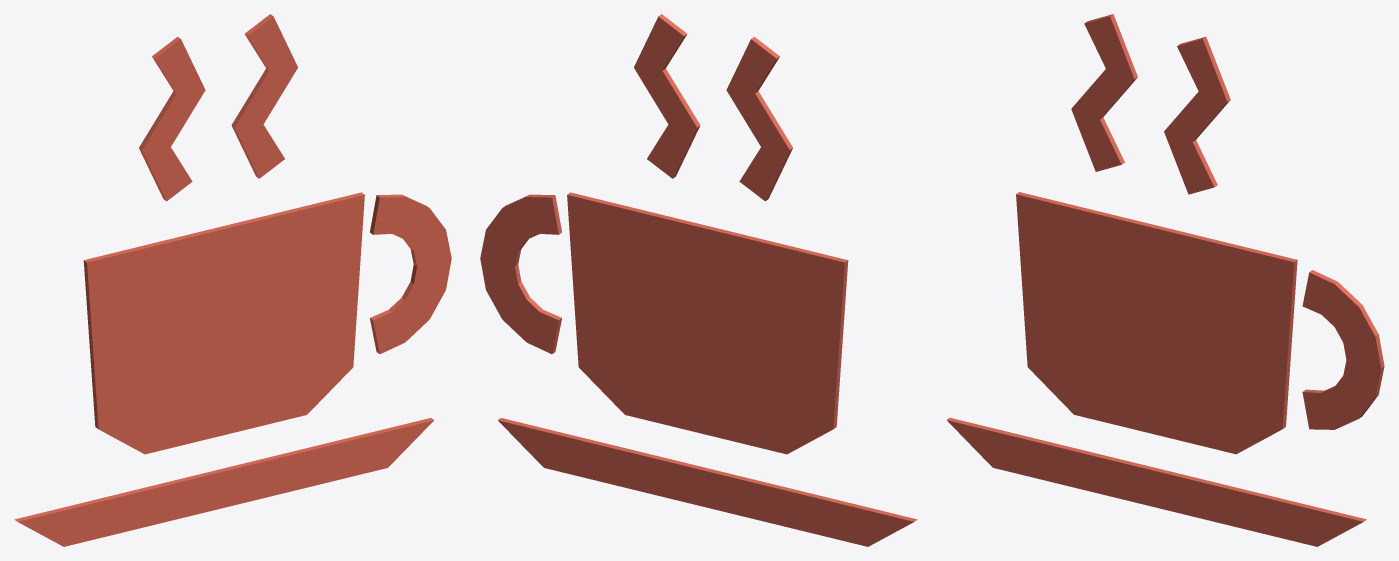
File: icon_cafe.glb
3 renders of one model, left to right at view 1: azimuth 30°, elevation 25°; view 2: azimuth 150°, elevation 25°; view 3: azimuth 330°, elevation 25°, orthographic.
Parts seen in each view (by area): view 1: icon_cafe; view 2: icon_cafe; view 3: icon_cafe.
Part boxes in pixels (x1,y1,x2,y2): icon_cafe: (14, 14, 451, 546); icon_cafe: (480, 14, 917, 546); icon_cafe: (947, 14, 1384, 546).
Size of the model in its own units: 0.375 by 0.3956 by 0.005.
